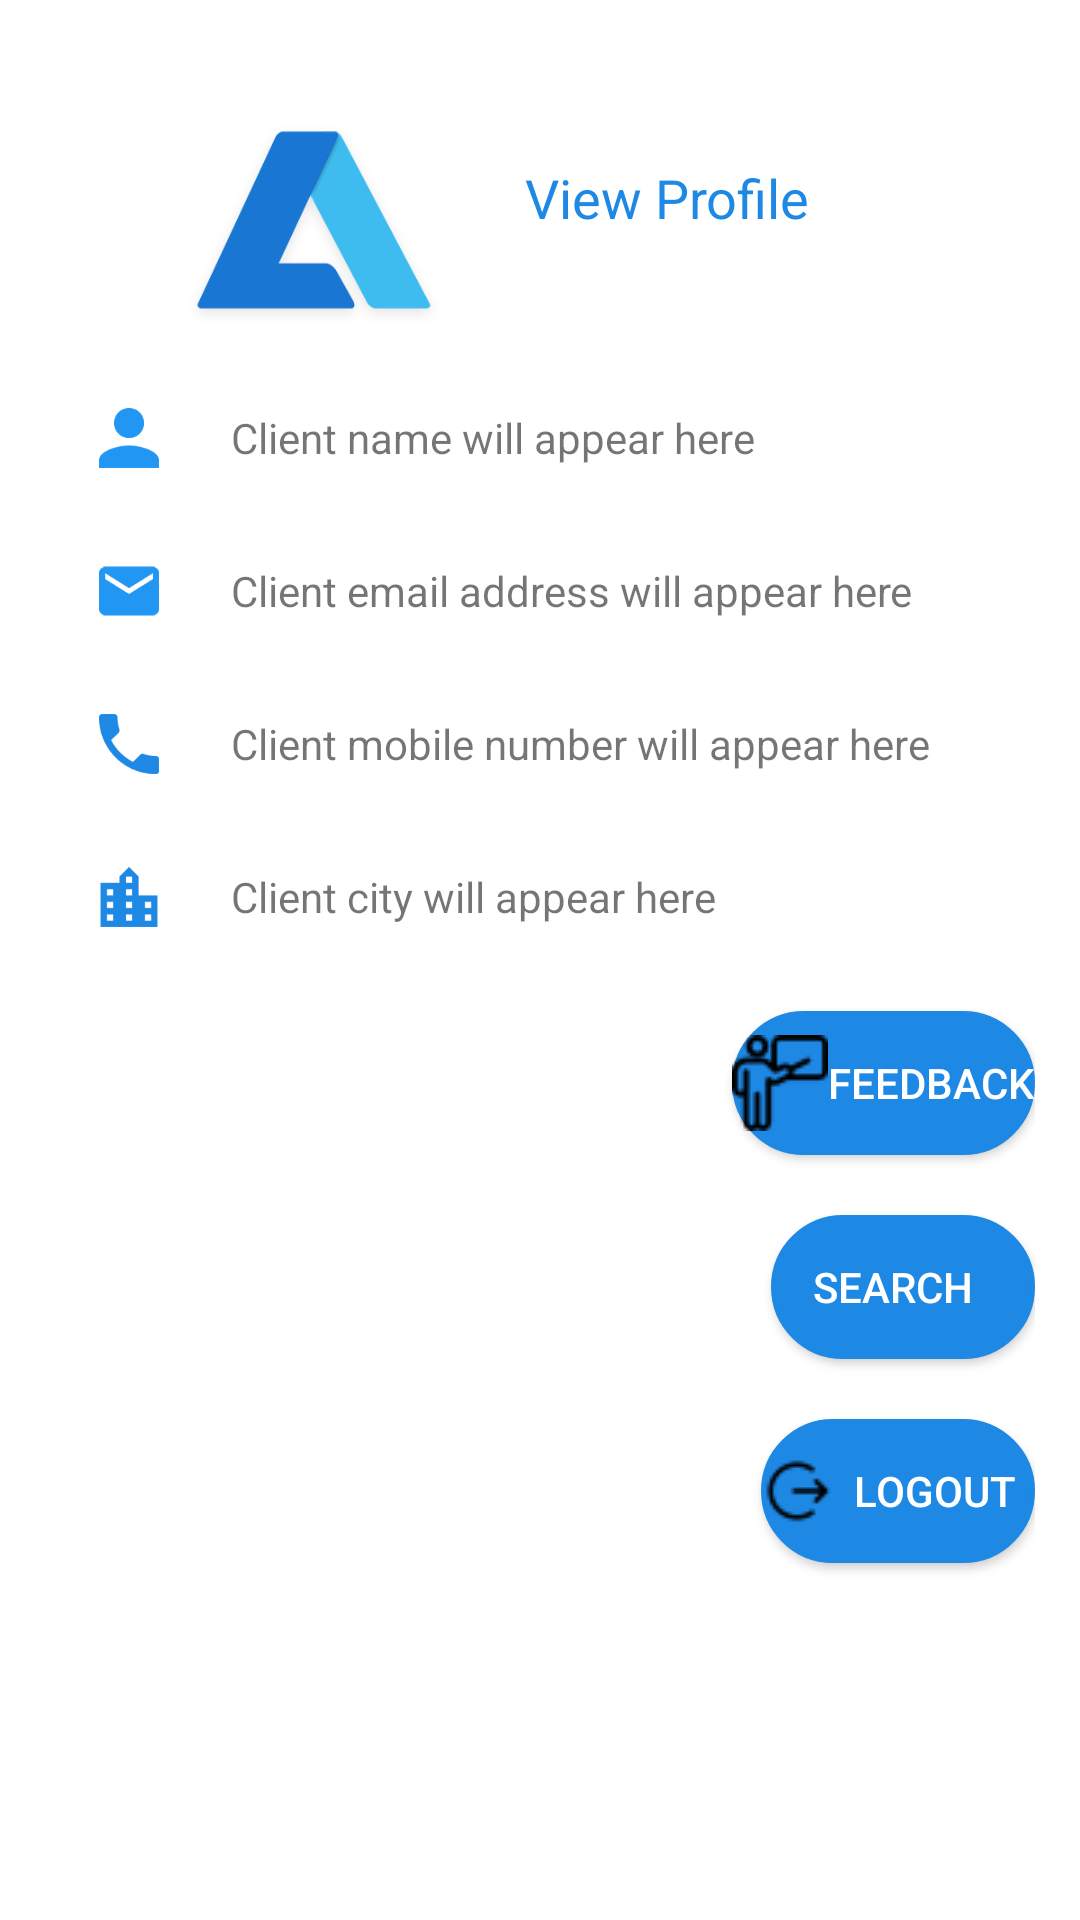

Icon bounding boxes for this 1080*1920 phone screenshot, format rect(x1, y1, x2, y2):
emain: rect(99, 566, 159, 616)
phone: rect(99, 714, 159, 774)
user shape: rect(99, 408, 159, 468)
